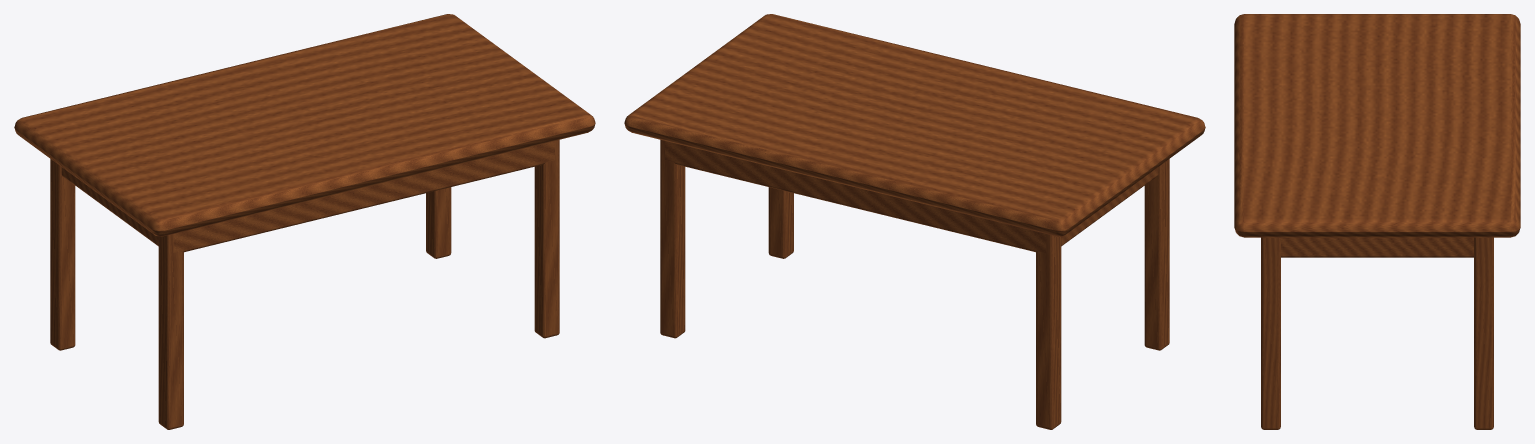
The model's file is hi3d-table_1.glb.
The picture shows the model from 3 angles, left to right: view 1: azimuth 30°, elevation 25°; view 2: azimuth 150°, elevation 25°; view 3: azimuth 270°, elevation 25°; orthographic projection.
Parts seen in each view (by area): view 1: table_mesh; view 2: table_mesh; view 3: table_mesh.
Part boxes in pixels (<box>): table_mesh: <box>14,14,595,429</box>; table_mesh: <box>624,14,1205,429</box>; table_mesh: <box>1234,14,1520,429</box>.
Size of the model in its own units: 1.65 by 0.7975 by 0.94.
Materials: 1 (1 with a texture image).
